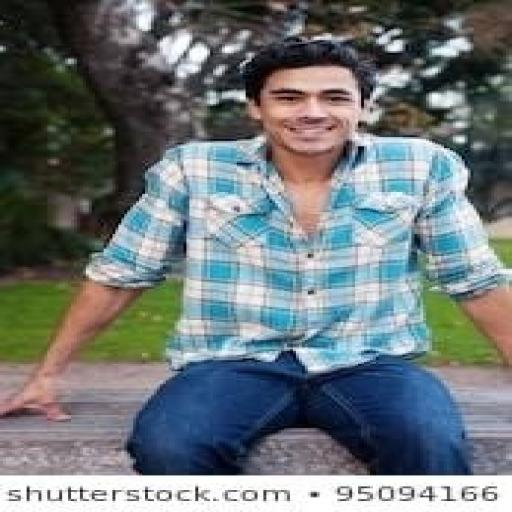sitting: (0, 34, 509, 474)
